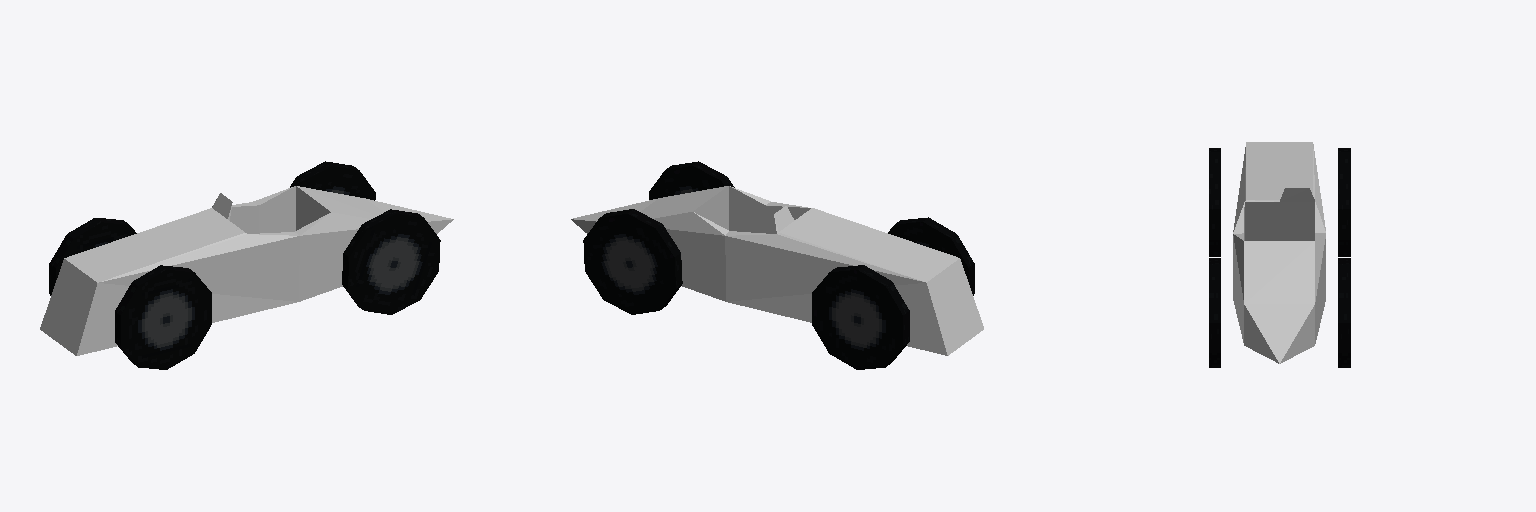
The picture shows the model from 3 angles: view 1: azimuth 30°, elevation 25°; view 2: azimuth 150°, elevation 25°; view 3: azimuth 270°, elevation 25°; orthographic projection.
Parts seen in each view (by area): view 1: Cube, FrontWheels.001, FrontWheels; view 2: Cube, FrontWheels.001, FrontWheels; view 3: Cube, FrontWheels, FrontWheels.001.
Boxes of the visible parts, x1,y1,x2,y2 form: Cube: [40, 186, 453, 355]; FrontWheels.001: [49, 218, 211, 369]; FrontWheels: [290, 161, 440, 314]; Cube: [571, 186, 983, 355]; FrontWheels.001: [812, 217, 974, 369]; FrontWheels: [583, 161, 734, 314]; Cube: [1233, 142, 1325, 363]; FrontWheels: [1209, 258, 1350, 367]; FrontWheels.001: [1209, 148, 1350, 256].
Bounding box in the file's own units: 7.83 × 2.18 × 2.44.
Materials: 3 (1 with a texture image).